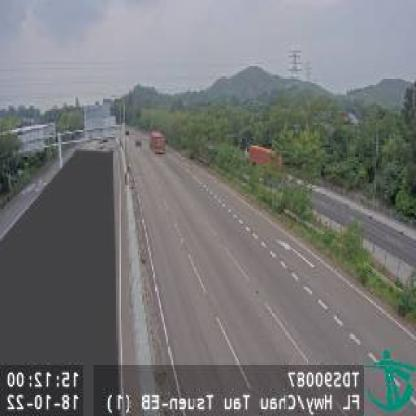Truck: (150, 130, 166, 154)
